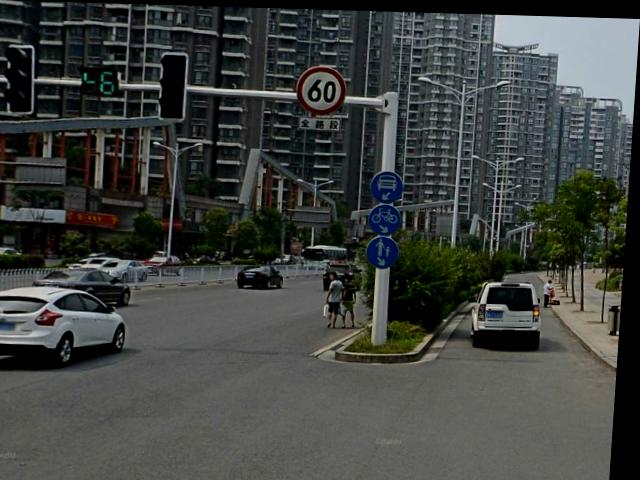limit60: (297, 63, 351, 113)
